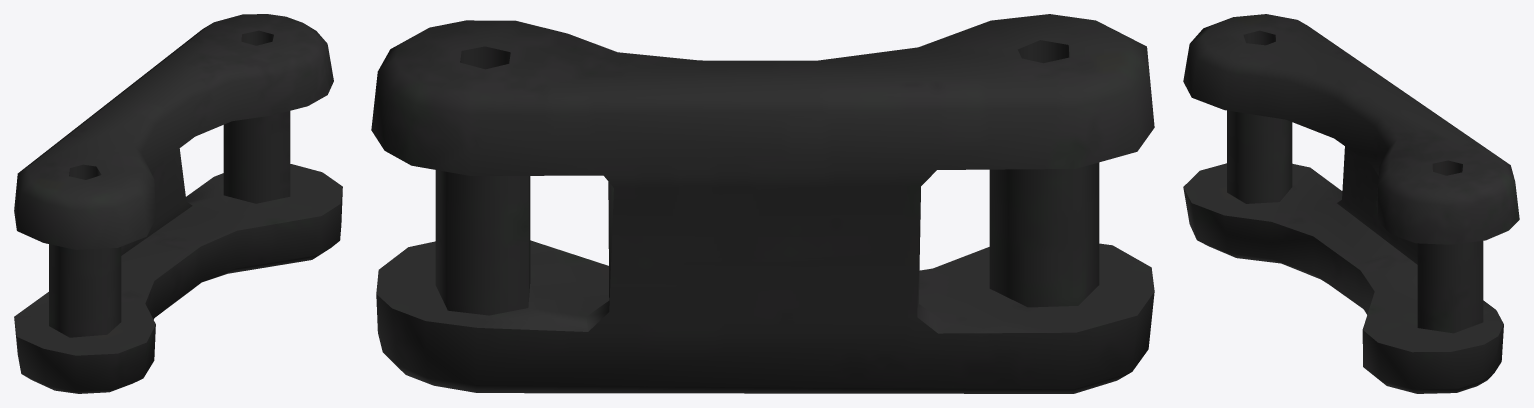
The model's file is gripper_left_1.dae.
3 views of the same model, side by side, from view 1: azimuth 30°, elevation 25°; view 2: azimuth 150°, elevation 25°; view 3: azimuth 270°, elevation 25° (orthographic). The views are drawn at different scales.
Visible parts, largest first — view 1: gripper_left_1; view 2: gripper_left_1; view 3: gripper_left_1.
Part boxes in pixels (x1=…): gripper_left_1: x1=14, y1=14, x2=342, y2=393; gripper_left_1: x1=371, y1=14, x2=1154, y2=393; gripper_left_1: x1=1183, y1=14, x2=1519, y2=393.
Size of the model in its own units: 0.0318 by 0.0233 by 0.0151.
